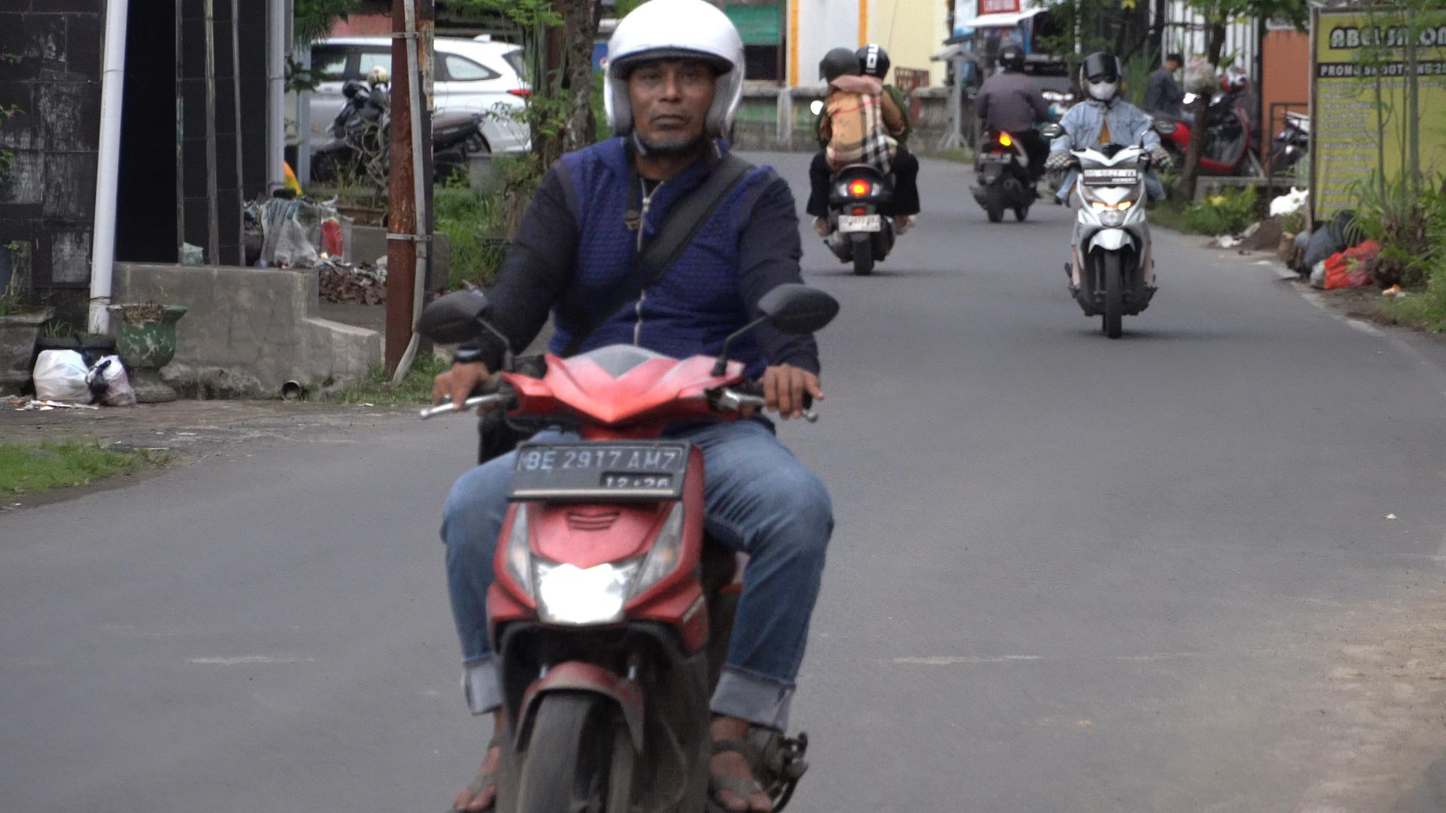number-plate: (500, 440, 690, 501)
